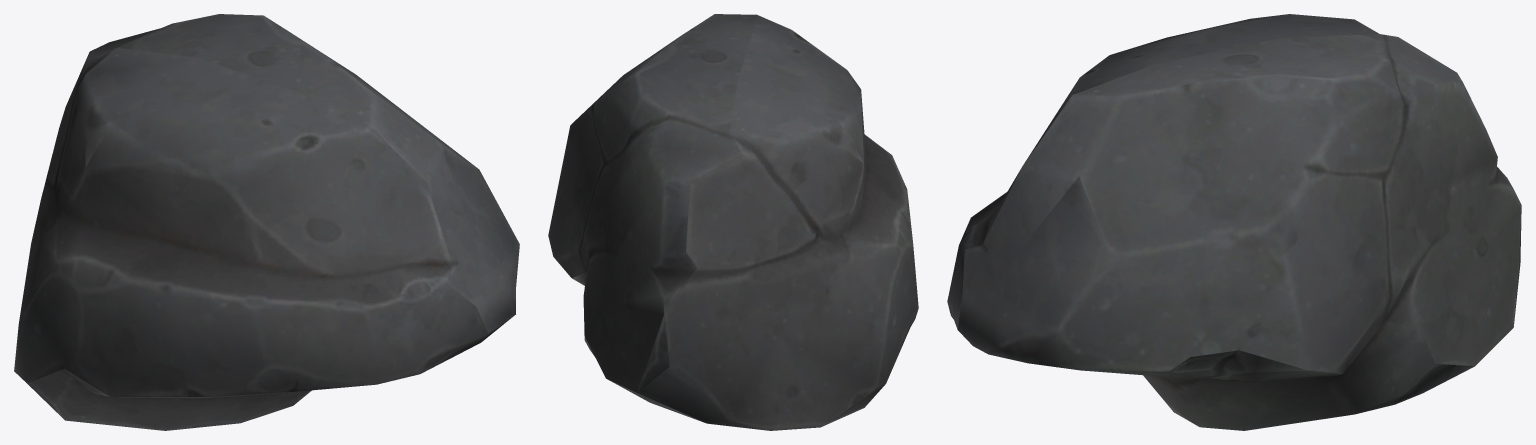
Rendered from Storm_Doodad_KingsCrest_BigChunkyRock_05_Sc2.obj.
3 views of the same model, side by side, from view 1: azimuth 30°, elevation 25°; view 2: azimuth 150°, elevation 25°; view 3: azimuth 270°, elevation 25° (orthographic). The views are drawn at different scales.
Parts seen in each view (by area): view 1: Mesh_1; view 2: Mesh_1; view 3: Mesh_1.
Boxes of the visible parts, box(x1,y1,x2,y2) form: Mesh_1: box(14, 14, 519, 430); Mesh_1: box(548, 14, 918, 430); Mesh_1: box(947, 14, 1521, 430).
Size of the model in its own units: 104 by 87.82 by 123.
1 material, 1 textured.
